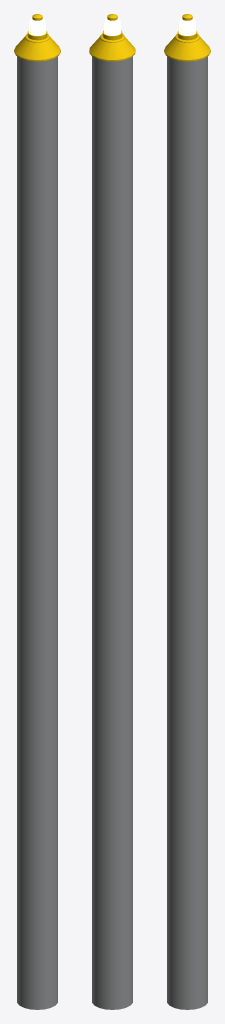
The model's file is RunwayLight01-WarmWhite_LOD1.gltf.
The picture shows the model from 3 angles, left to right: view 1: azimuth 90°, elevation 25°; view 2: azimuth 210°, elevation 25°; view 3: azimuth 270°, elevation 25°; orthographic projection.
Parts seen in each view (by area): view 1: Light; view 2: Light; view 3: Light.
Part boxes in pixels (x1,y1,x2,y2): Light: (14,14,60,1009); Light: (89,14,135,1009); Light: (164,14,210,1009).
Size of the model in its own units: 0.45 by 10.44 by 0.45.
